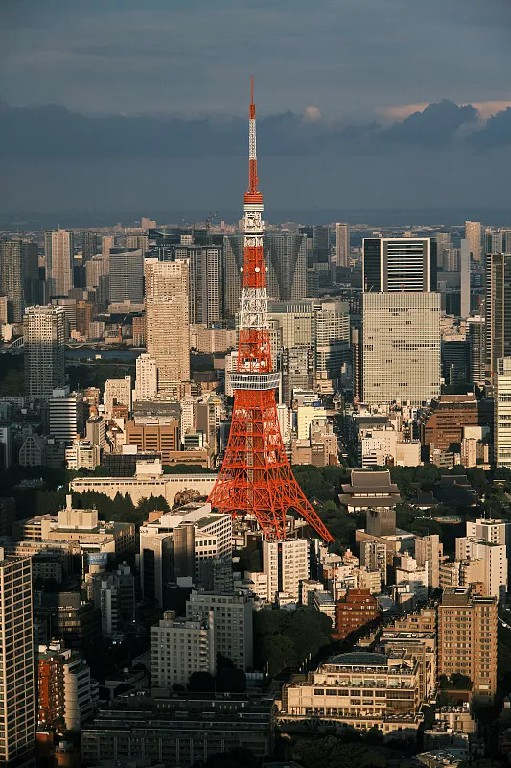Tokyo: (206, 75, 334, 547)
